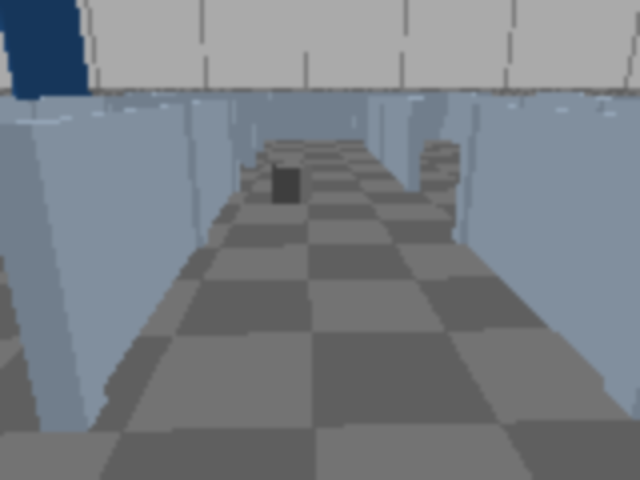obstacle: (272, 161, 313, 205)
